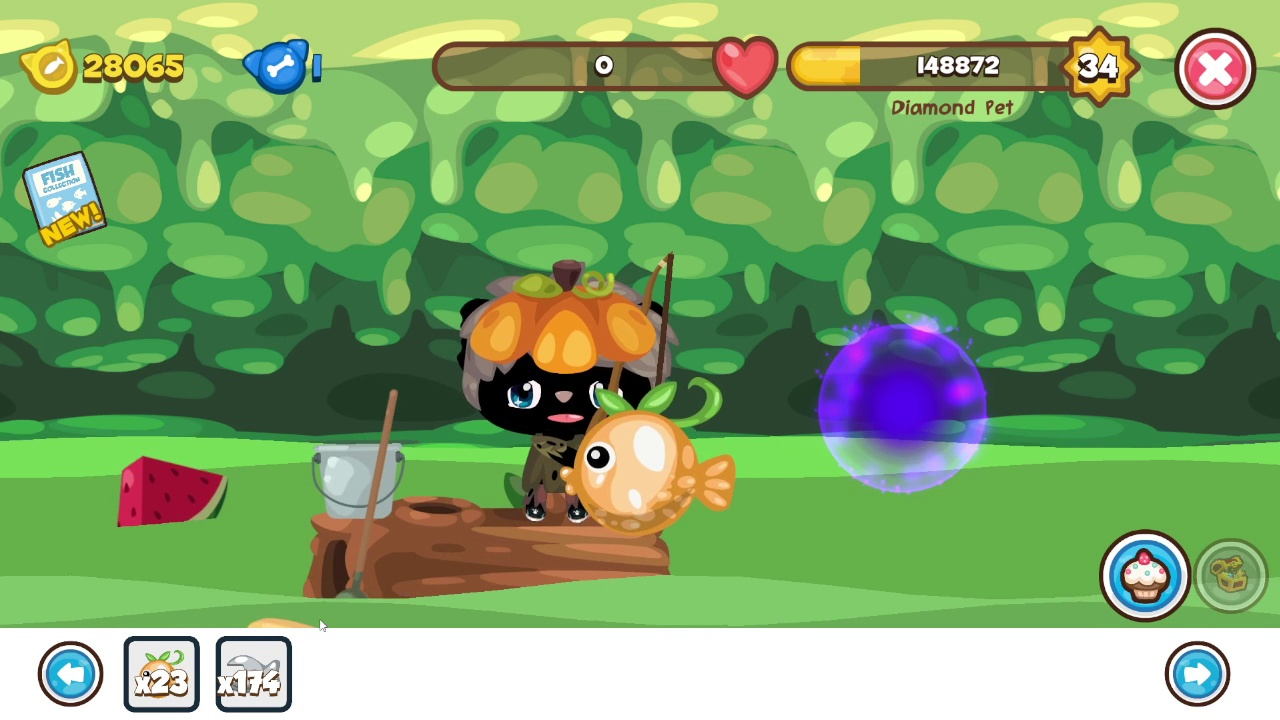point: (816, 321, 988, 495)
